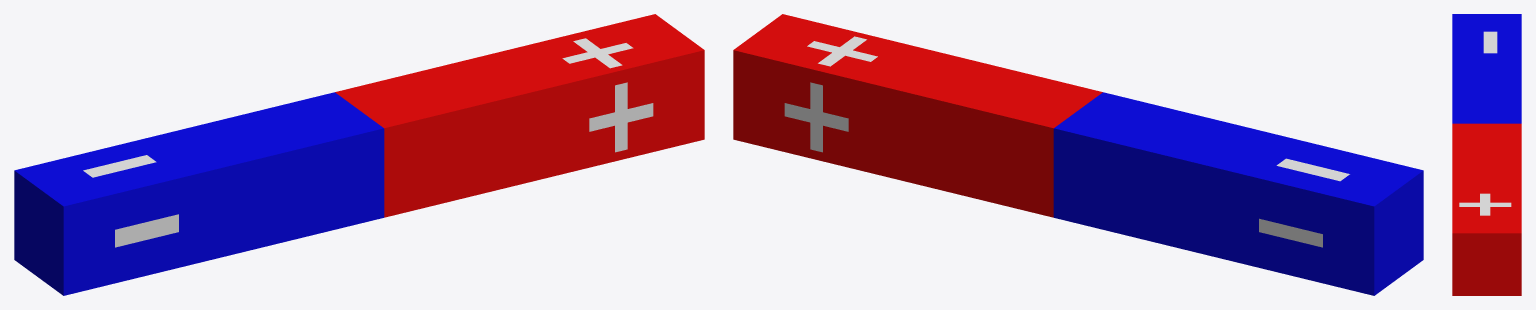
Rendered from Magnetovox.vox.obj.
The picture shows the model from 3 angles, left to right: view 1: azimuth 30°, elevation 25°; view 2: azimuth 150°, elevation 25°; view 3: azimuth 270°, elevation 25°; orthographic projection. The views are drawn at different scales.
Bounding box in the file's own units: 15 × 2 × 2.
Materials: 1 (1 with a texture image).
